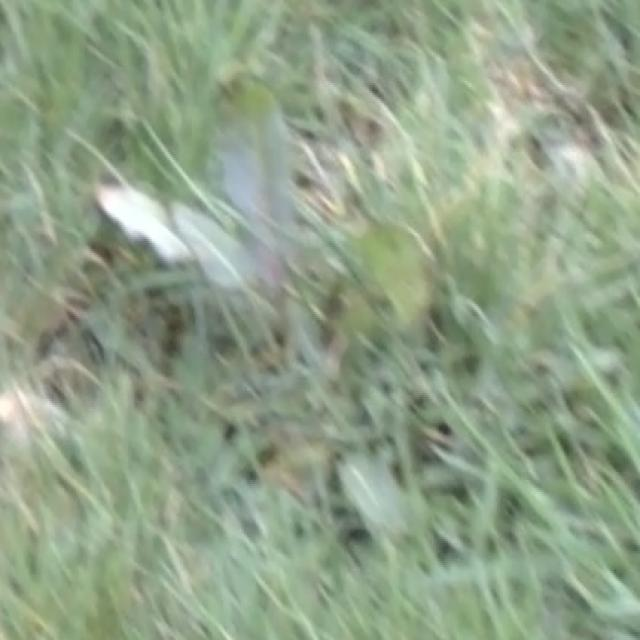organic waste: (112, 62, 360, 368), (311, 200, 475, 350), (317, 410, 425, 554)
